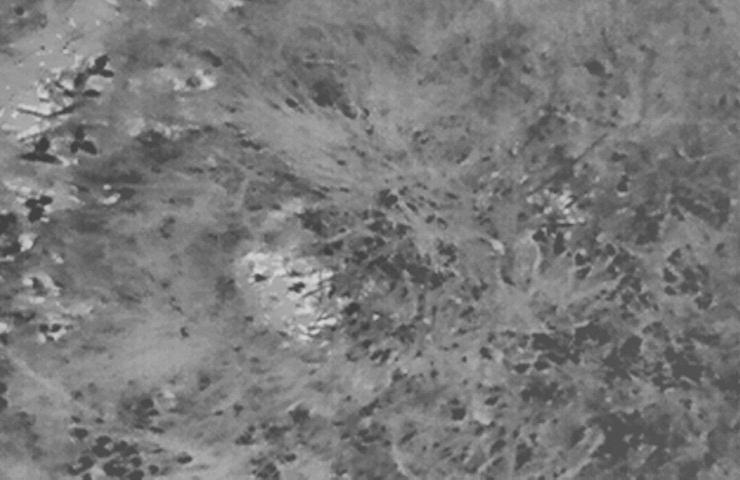landmines: (236, 246, 352, 345)
